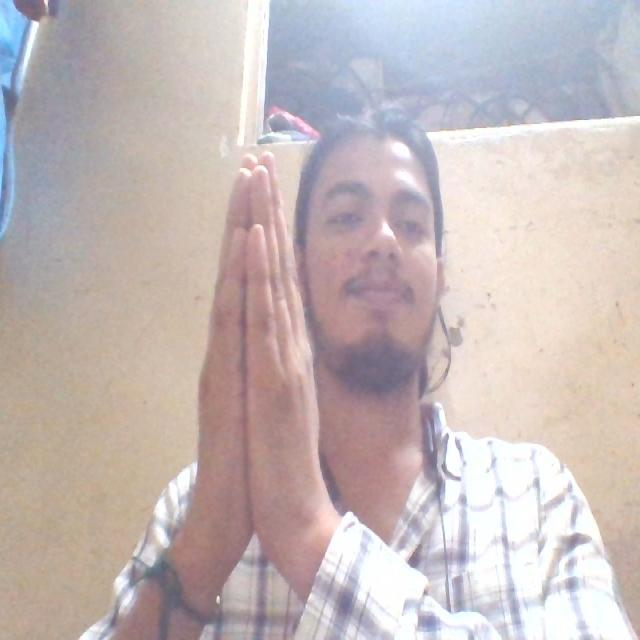Thank You: (172, 142, 347, 557)
